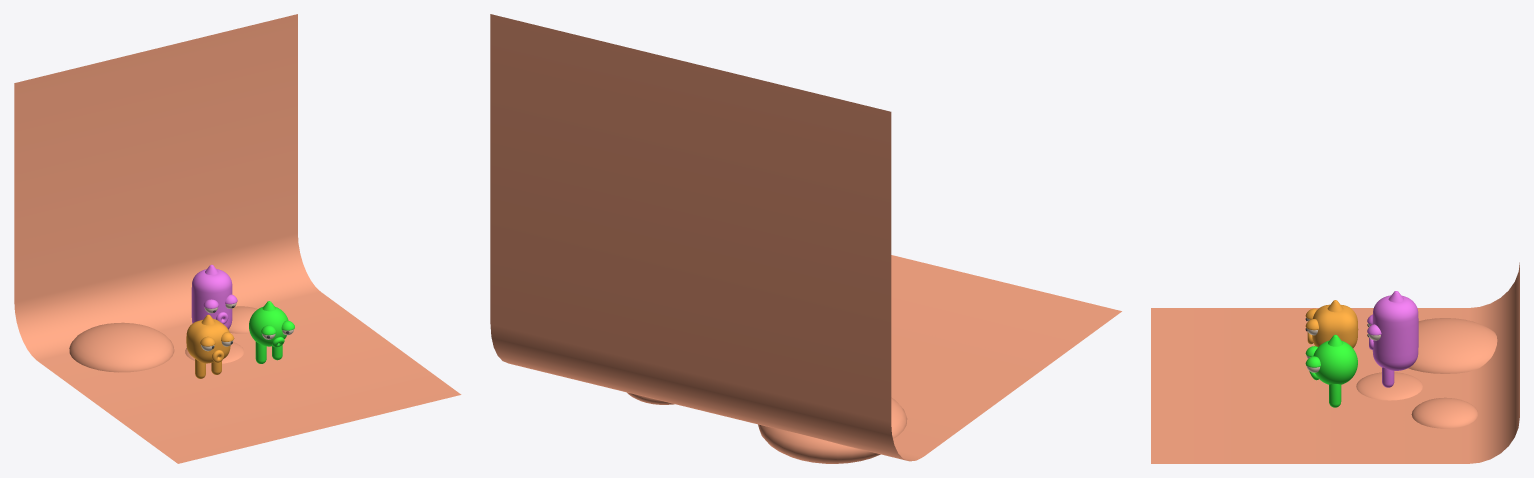
3 renders of one model, left to right at view 1: azimuth 30°, elevation 25°; view 2: azimuth 150°, elevation 25°; view 3: azimuth 270°, elevation 25°, orthographic. The views are drawn at different scales.
Visible parts, largest first — view 1: 平面, 球体.020, 柱体.004, Cube, 球体.006, 球体.021; view 2: 平面, 球体.020; view 3: 平面, 球体.020, 柱体.004, 球体.021, 球体.006, Cube, 球体.019.
Part boxes in pixels (box(x1,y1,x2,y2)): 平面: box(14, 14, 461, 463); 球体.020: box(69, 322, 174, 372); 柱体.004: box(191, 269, 232, 329); Cube: box(186, 319, 230, 363); 球体.006: box(249, 306, 288, 346); 球体.021: box(229, 306, 257, 333); 平面: box(490, 14, 1121, 461); 球体.020: box(758, 397, 907, 463); 平面: box(1151, 262, 1519, 463); 球体.020: box(1408, 318, 1497, 373); 柱体.004: box(1372, 295, 1418, 370); 球体.021: box(1411, 397, 1478, 428); 球体.006: box(1313, 340, 1357, 384); Cube: box(1312, 304, 1358, 348); 球体.019: box(1356, 372, 1422, 400).
Bounding box in the file's own units: 15.95 × 15.12 × 15.95.
